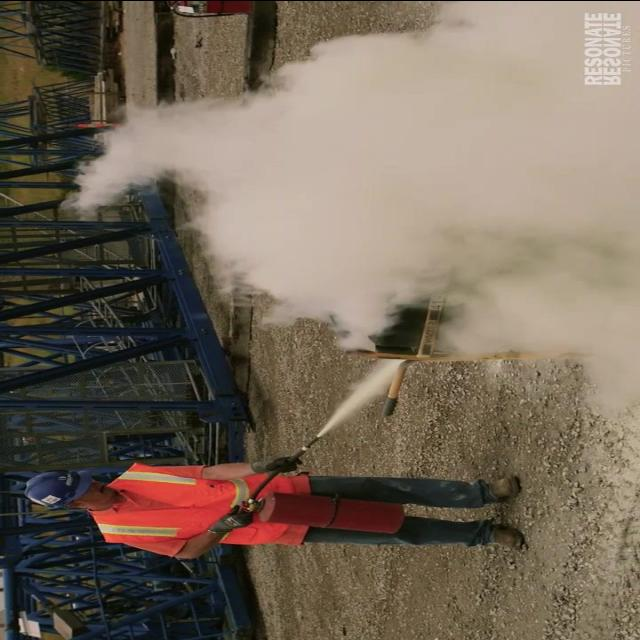helmet: (20, 463, 93, 519)
jacket: (90, 460, 316, 564)
